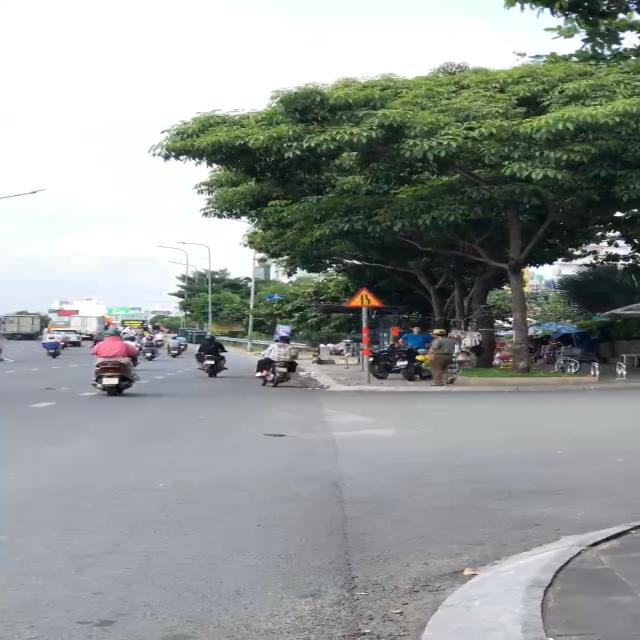Bien bao duong bi thu hep: (342, 284, 392, 308)
